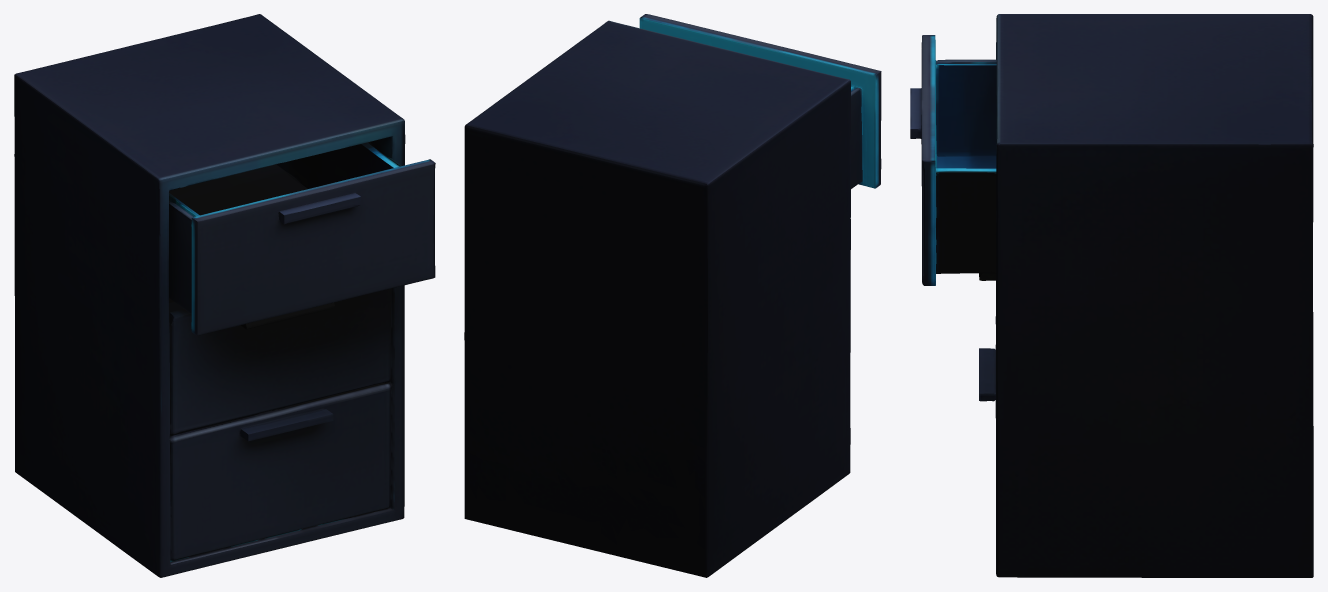
The model's file is gaveta-3d-2.glb.
3 renders of one model, left to right at view 1: azimuth 30°, elevation 25°; view 2: azimuth 150°, elevation 25°; view 3: azimuth 270°, elevation 25°, orthographic. The views are drawn at different scales.
Parts seen in each view (by area): view 1: world; view 2: world; view 3: world.
Part boxes in pixels (bbox=[...]): world: bbox=[14, 14, 435, 577]; world: bbox=[464, 14, 881, 577]; world: bbox=[910, 14, 1313, 577].
Bounding box in the file's own units: 0.648 × 1 × 0.8433.
1 material, 1 textured.
